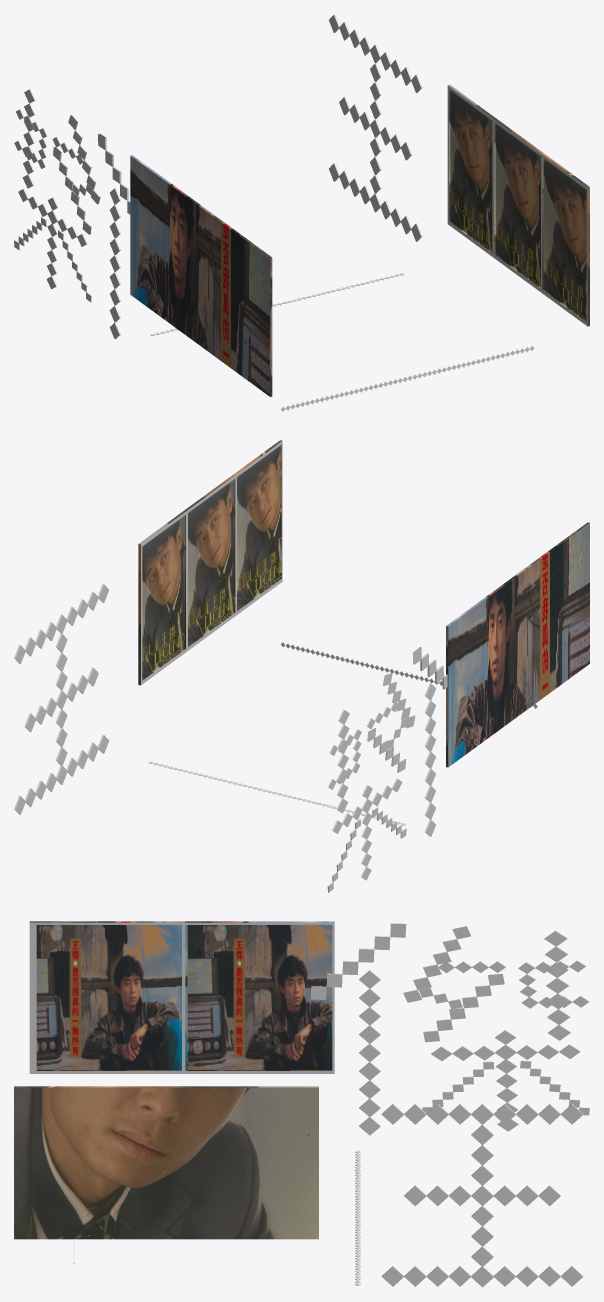
File: DaveAllInOne.fbx
3 renders of one model, top to bottom at view 1: azimuth 30°, elevation 25°; view 2: azimuth 150°, elevation 25°; view 3: azimuth 270°, elevation 25°, orthographic. The views are drawn at different scales.
Visible parts, largest first — view 1: Circle.004; view 2: Circle.004; view 3: Circle.004.
Boxes of the visible parts, x1,y1,x2,y2 form: Circle.004: (14,14,589,411); Circle.004: (14,440,589,892); Circle.004: (14,921,589,1287).
Size of the model in its own units: 2293 by 1574 by 937.
